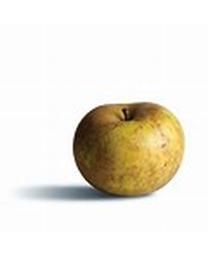apple: (72, 101, 186, 196)
